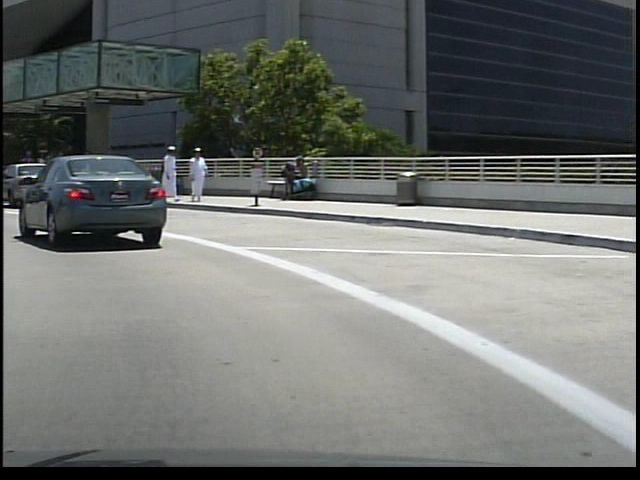person: (69, 146, 96, 214), (182, 144, 205, 203), (155, 142, 178, 200)
